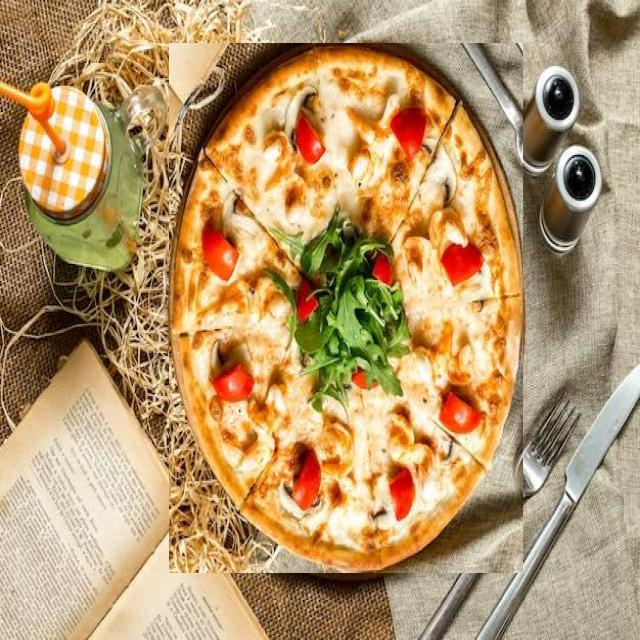basil: (169, 43, 523, 573), (266, 202, 411, 411)
